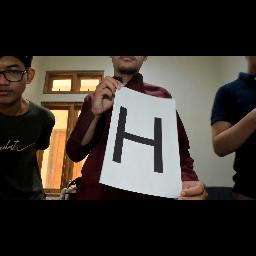h: (107, 102, 171, 178)
